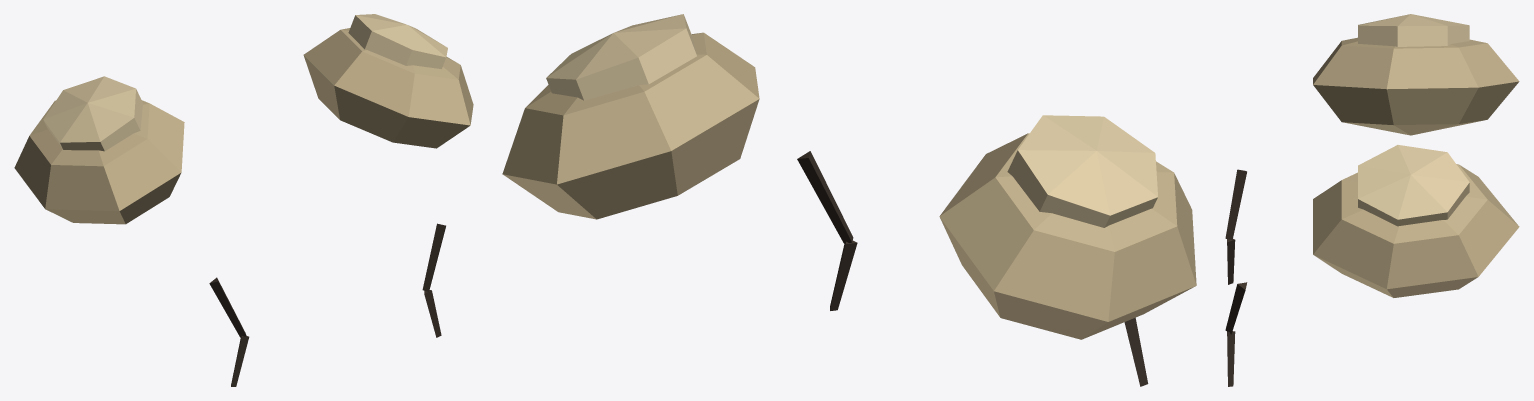
Rendered from stone_guardian_chest.glb.
3 views of the same model, side by side, from view 1: azimuth 30°, elevation 25°; view 2: azimuth 150°, elevation 25°; view 3: azimuth 270°, elevation 25° (orthographic). The views are drawn at different scales.
Parts seen in each view (by area): view 1: stone_guardian_chest; view 2: stone_guardian_chest; view 3: stone_guardian_chest.
Part boxes in pixels (x1,y1,x2,y2): stone_guardian_chest: (14,14,473,386); stone_guardian_chest: (502,14,1196,386); stone_guardian_chest: (1225,14,1519,386).
Bounding box in the file's own units: 1.13 × 0.6092 × 0.6497.
